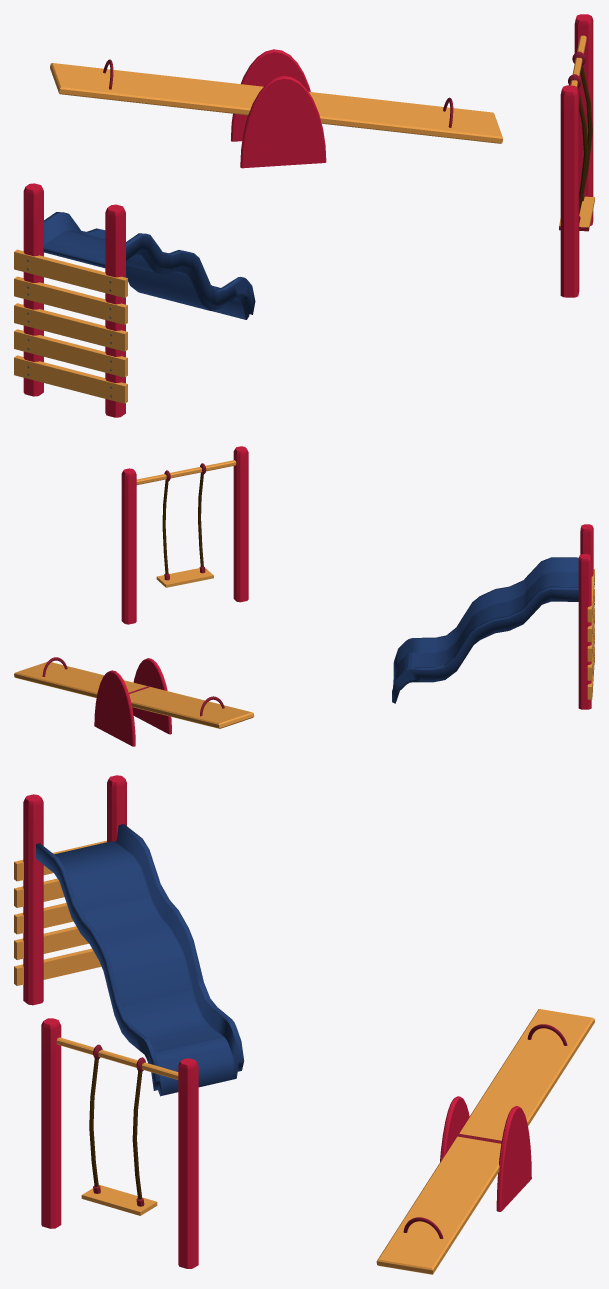
File: asset3.glb
3 renders of one model, top to bottom at view 1: azimuth 30°, elevation 25°; view 2: azimuth 150°, elevation 25°; view 3: azimuth 270°, elevation 25°, orthographic. The views are drawn at different scales.
Parts seen in each view (by area): view 1: Nails2, Seesaw, polySurface2; view 2: Nails2, Seesaw, polySurface2; view 3: Nails2, Seesaw, polySurface2.
Boxes of the visible parts, x1=… form: Nails2: x1=14, y1=183, x2=255, y2=417; Seesaw: x1=50, y1=49, x2=502, y2=168; polySurface2: x1=559, y1=14, x2=594, y2=297; Nails2: x1=392, y1=524, x2=594, y2=709; Seesaw: x1=14, y1=657, x2=254, y2=746; polySurface2: x1=121, y1=446, x2=248, y2=624; Nails2: x1=14, y1=775, x2=244, y2=1096; Seesaw: x1=376, y1=1009, x2=594, y2=1274; polySurface2: x1=41, y1=1018, x2=198, y2=1268.
Bounding box in the file's own units: 10.83 × 3.37 × 8.68.
